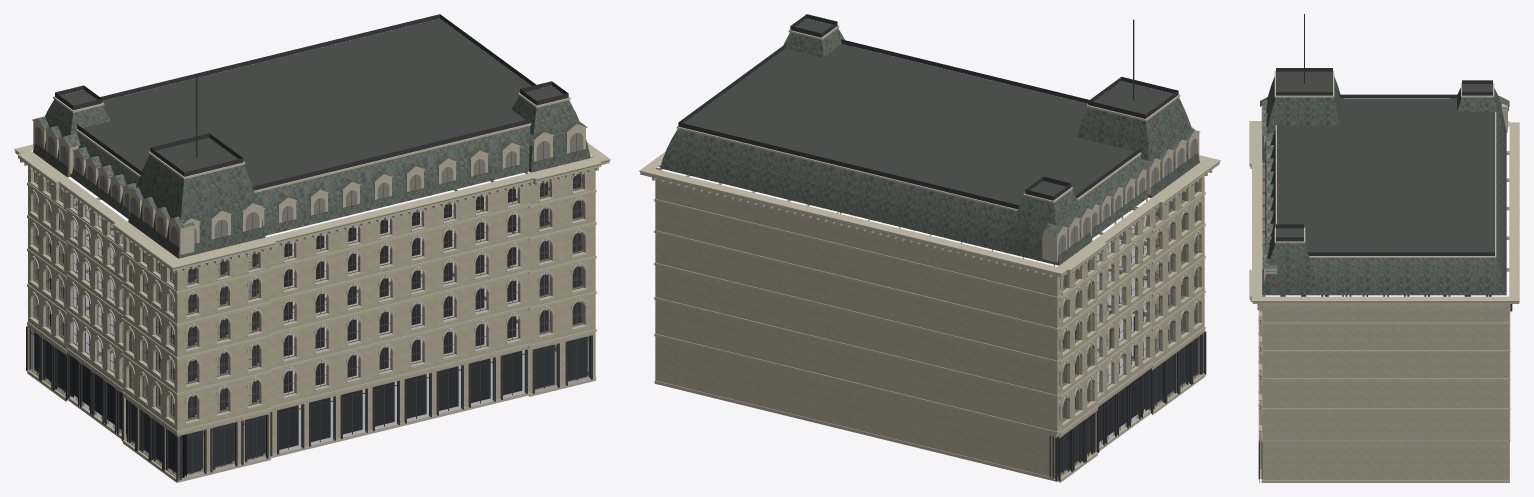
Rendered from field_leiter_1871__store_1868_1871.glb.
3 renders of one model, left to right at view 1: azimuth 30°, elevation 25°; view 2: azimuth 150°, elevation 25°; view 3: azimuth 270°, elevation 25°, orthographic. The views are drawn at different scales.
Parts seen in each view (by area): view 1: field_leiter_1871__store_1868_1871; view 2: field_leiter_1871__store_1868_1871; view 3: field_leiter_1871__store_1868_1871.
Part boxes in pixels (x1=…): field_leiter_1871__store_1868_1871: x1=14, y1=14, x2=610, y2=482; field_leiter_1871__store_1868_1871: x1=639, y1=14, x2=1220, y2=482; field_leiter_1871__store_1868_1871: x1=1249, y1=14, x2=1519, y2=482.
Bounding box in the file's own units: 43.92 × 36 × 27.92.
Materials: 8 (3 with a texture image).
